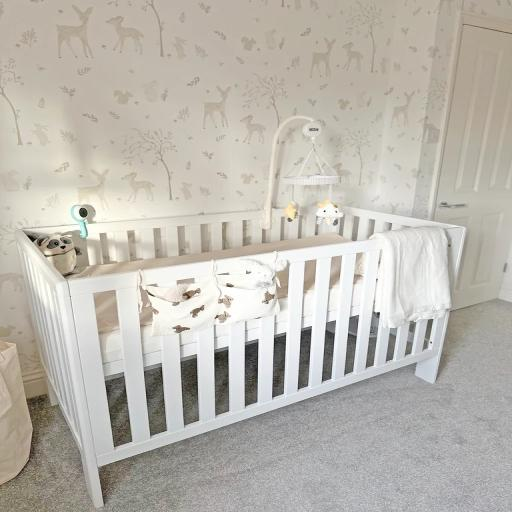crib: (16, 207, 464, 506)
